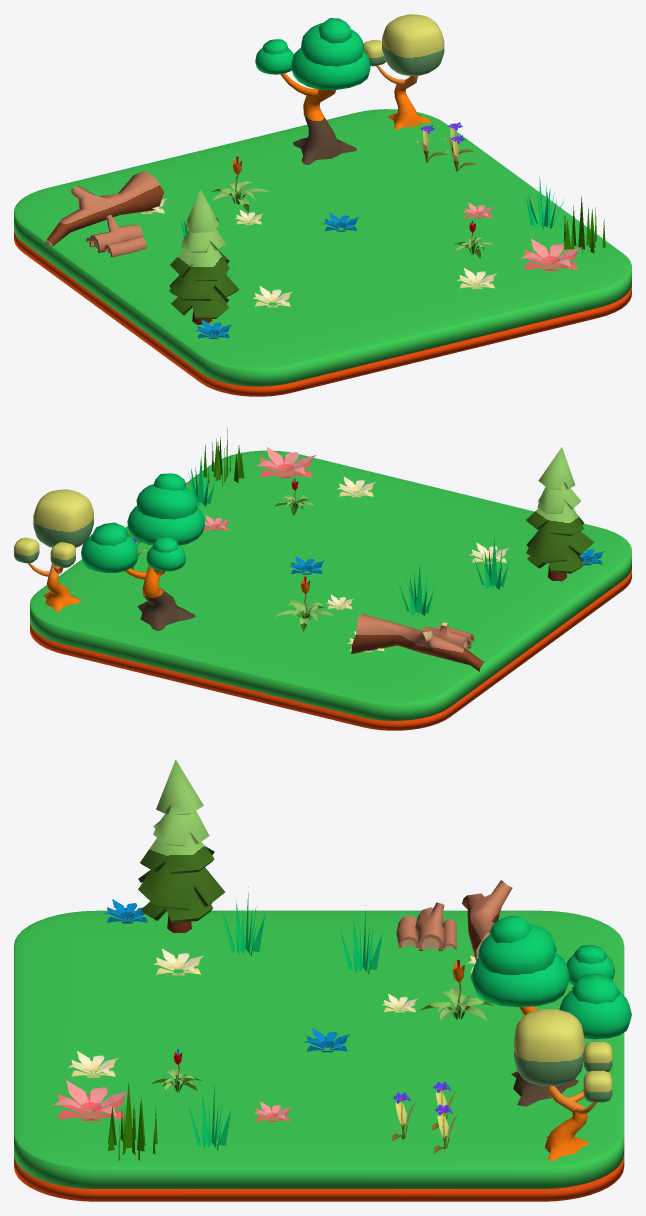
The model's file is forest_1.glb.
The picture shows the model from 3 angles, top to bottom: view 1: azimuth 30°, elevation 25°; view 2: azimuth 150°, elevation 25°; view 3: azimuth 270°, elevation 25°; orthographic projection. The views are drawn at different scales.
Parts seen in each view (by area): view 1: Cube, Tree.015, Cube.001, Tree.009, Tree.011, Tree.025, Stump.002, Flowers.004, Grass.004, Flowers.006, Grass.003; view 2: Cube, Tree.015, Cube.001, Tree.009, Tree.011, Tree.025, Flowers.004, Grass.004, Flowers.006, Grass.001, Stump.002, Grass.002 (+3 smaller); view 3: Cube, Tree.015, Tree.009, Tree.011, Cube.001, Stump.002, Flowers.004, Tree.025, Grass.004, Flowers.006, Grass.002, Grass.001 (+6 smaller).
Boxes of the visible parts, bbox=[...] form: Cube: bbox=[14, 109, 631, 386]; Tree.015: bbox=[255, 18, 370, 164]; Cube.001: bbox=[14, 230, 631, 396]; Tree.009: bbox=[169, 189, 239, 324]; Tree.011: bbox=[363, 14, 444, 130]; Tree.025: bbox=[45, 170, 164, 246]; Stump.002: bbox=[86, 215, 146, 257]; Flowers.004: bbox=[520, 238, 581, 270]; Grass.004: bbox=[563, 196, 605, 255]; Flowers.006: bbox=[211, 156, 268, 212]; Grass.003: bbox=[525, 176, 564, 229]; Cube: bbox=[30, 450, 631, 720]; Tree.015: bbox=[81, 473, 204, 631]; Cube.001: bbox=[30, 569, 631, 730]; Tree.009: bbox=[526, 447, 593, 581]; Tree.011: bbox=[14, 489, 93, 611]; Tree.025: bbox=[351, 613, 483, 671]; Flowers.004: bbox=[256, 447, 316, 478]; Grass.004: bbox=[203, 427, 244, 486]; Flowers.006: bbox=[275, 576, 334, 631]; Grass.001: bbox=[399, 566, 434, 615]; Stump.002: bbox=[421, 622, 474, 648]; Grass.002: bbox=[474, 538, 509, 589]; Cube: bbox=[14, 910, 624, 1188]; Tree.015: bbox=[470, 916, 631, 1106]; Tree.009: bbox=[138, 759, 225, 932]; Tree.011: bbox=[514, 1009, 612, 1160]; Cube.001: bbox=[14, 1154, 624, 1201]; Stump.002: bbox=[396, 902, 456, 950]; Flowers.004: bbox=[52, 1080, 129, 1120]; Tree.025: bbox=[462, 880, 512, 960]; Grass.004: bbox=[108, 1082, 157, 1161]; Flowers.006: bbox=[419, 959, 494, 1019]; Grass.002: bbox=[222, 886, 264, 956]; Grass.001: bbox=[340, 905, 382, 974].
Bounding box in the file's own units: 20.2 × 7.65 × 20.26.
24 materials, 22 textured.
